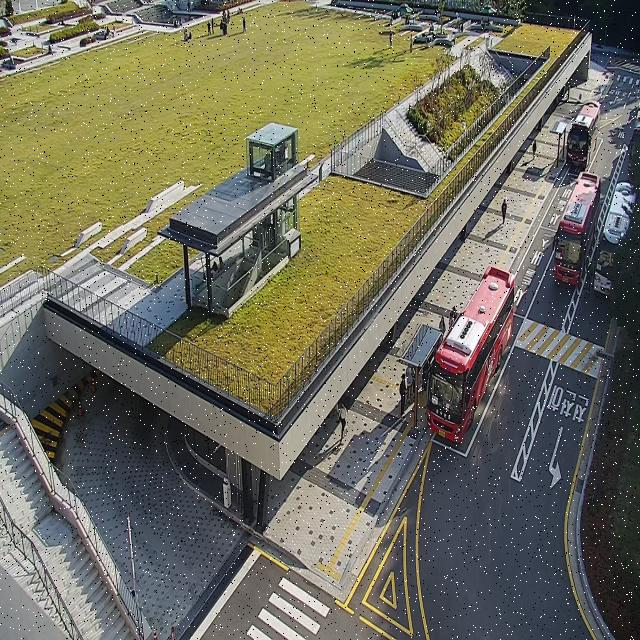queue: (411, 334, 440, 430)
